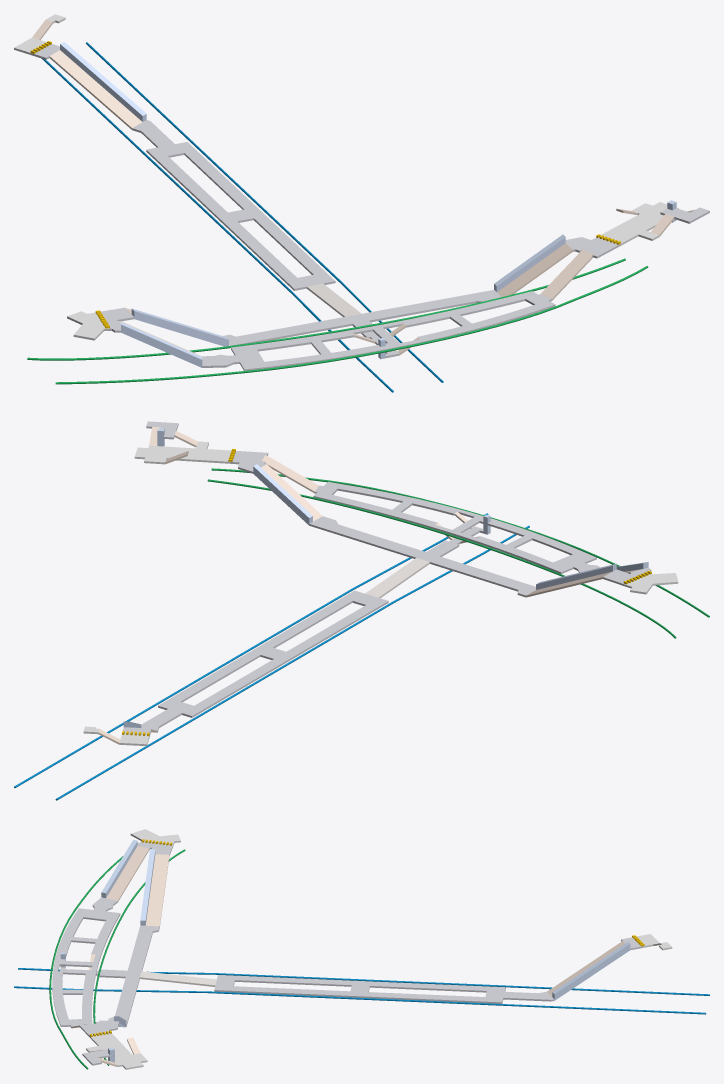
Rendered from fridhemsplan.glb.
3 views of the same model, one above another, from view 1: azimuth 30°, elevation 25°; view 2: azimuth 150°, elevation 25°; view 3: azimuth 270°, elevation 25° (orthographic). The views are drawn at different scales.
Visible parts, largest first — view 1: path5054, path3628, rect4763, path13663, path13661, path13659, rect5024, path4930, rect4708-9, rect4708, rect3648-2-0, rect3650 (+5 smaller); view 2: path5054, path3628, rect4763, path13663, path4930, path13659, path13661, path5056, rect13733, path4719, rect4708; view 3: path5054, path3628, path13663, rect4763, rect3648-2, path4930, rect4708-9, rect3648, path5056, path13661, rect4708, rect3650 (+4 smaller).
Part boxes in pixels (x1=…): path5054: x1=132, y1=120, x2=335, y2=290; path3628: x1=202, y1=291, x2=555, y2=370; rect4763: x1=223, y1=290, x2=501, y2=358; path13663: x1=41, y1=42, x2=443, y2=392; path13661: x1=55, y1=266, x2=648, y2=384; path13659: x1=27, y1=258, x2=625, y2=360; rect5024: x1=49, y1=50, x2=142, y2=129; path4930: x1=600, y1=202, x2=678, y2=245; rect4708-9: x1=60, y1=42, x2=146, y2=121; rect4708: x1=131, y1=308, x2=228, y2=346; rect3648-2-0: x1=497, y1=243, x2=572, y2=296; rect3650: x1=121, y1=322, x2=202, y2=367; path5054: x1=141, y1=590, x2=388, y2=731; path3628: x1=313, y1=481, x2=600, y2=573; rect4763: x1=309, y1=516, x2=535, y2=597; path13663: x1=14, y1=513, x2=529, y2=800; path4930: x1=134, y1=441, x2=231, y2=464; path13659: x1=207, y1=479, x2=676, y2=638; path13661: x1=211, y1=468, x2=709, y2=617; path5056: x1=365, y1=558, x2=429, y2=598; rect13733: x1=253, y1=464, x2=312, y2=525; path4719: x1=624, y1=573, x2=678, y2=594; rect4708: x1=536, y1=563, x2=616, y2=589; path5054: x1=214, y1=975, x2=554, y2=1003; path3628: x1=52, y1=897, x2=120, y2=1027; path13663: x1=14, y1=968, x2=709, y2=1014; rect4763: x1=60, y1=925, x2=159, y2=1026; rect3648-2: x1=145, y1=854, x2=169, y2=927; path4930: x1=86, y1=1033, x2=147, y2=1069; rect4708-9: x1=552, y1=941, x2=630, y2=1000; rect3648: x1=106, y1=846, x2=149, y2=902; path5056: x1=140, y1=971, x2=216, y2=986; path13661: x1=49, y1=856, x2=122, y2=1069; rect4708: x1=140, y1=849, x2=155, y2=925; rect3650: x1=101, y1=839, x2=137, y2=898.
Size of the model in its own units: 322 by 32 by 385.
